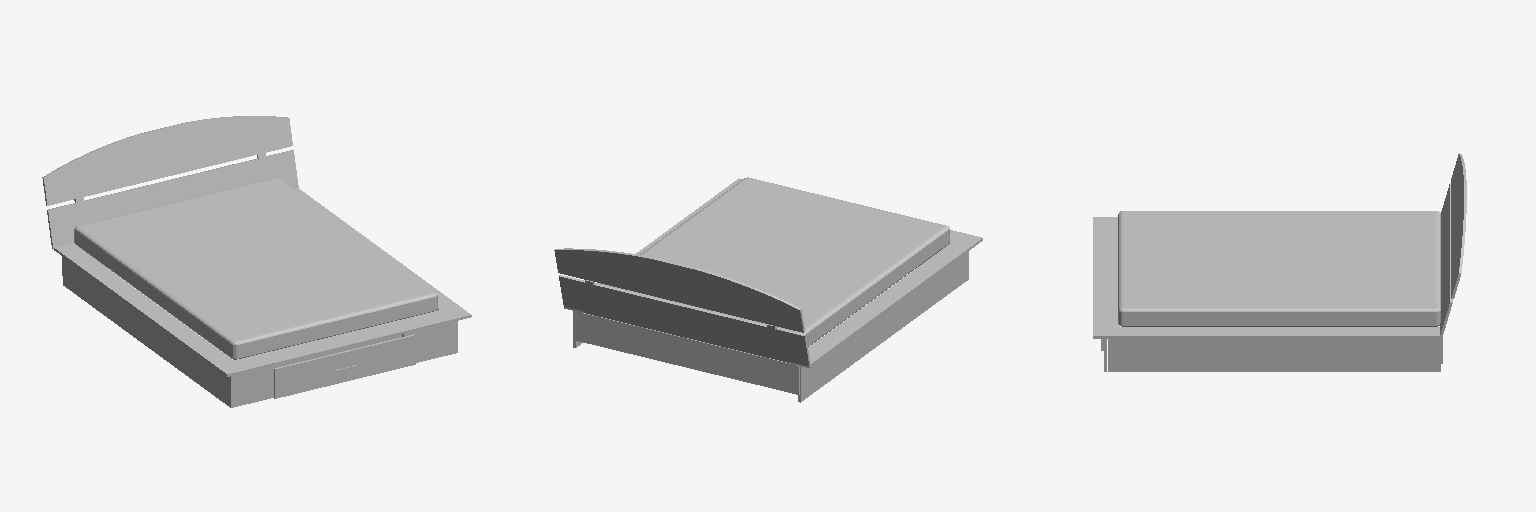
File: bed.obj
3 renders of one model, left to right at view 1: azimuth 30°, elevation 25°; view 2: azimuth 150°, elevation 25°; view 3: azimuth 270°, elevation 25°, orthographic.
Parts seen in each view (by area): view 1: mattress_18, Boolean_1_13, Cube_7_10, Cube_5_1_8, Cube_9_14, Cube_1_1, Cube_2_2, Cube_3_4, Cube_3_1_5, Cube_2_1_3; view 2: mattress_18, Boolean_1_13, Cube_7_10, Cube_6_9, Cube_5_1_8, Cube_2_2; view 3: mattress_18, Cube_5_7, Cube_2_1_3, Cube_1_1, Boolean_1_13, Cube_7_10.
Boxes of the visible parts, box(x1,y1,x2,y2) form: mattress_18: box(74, 178, 437, 359); Boolean_1_13: box(42, 116, 292, 205); Cube_7_10: box(47, 150, 298, 249); Cube_5_1_8: box(63, 257, 229, 406); Cube_9_14: box(274, 334, 415, 398); Cube_1_1: box(214, 305, 471, 376); Cube_2_2: box(54, 243, 231, 366); Cube_3_4: box(230, 363, 284, 407); Cube_3_1_5: box(402, 321, 457, 362); Cube_2_1_3: box(295, 188, 457, 309); mattress_18: box(600, 177, 949, 346); Boolean_1_13: box(554, 248, 804, 332); Cube_7_10: box(559, 275, 810, 367); Cube_6_9: box(573, 311, 799, 394); Cube_5_1_8: box(798, 253, 966, 402); Cube_2_2: box(790, 243, 969, 367); mattress_18: box(1118, 211, 1440, 326); Cube_5_7: box(1108, 339, 1440, 371); Cube_2_1_3: box(1120, 327, 1442, 338); Cube_1_1: box(1093, 217, 1119, 338); Boolean_1_13: box(1451, 153, 1466, 298); Cube_7_10: box(1440, 183, 1452, 338).
Size of the model in its own units: 167 by 78.48 by 220.